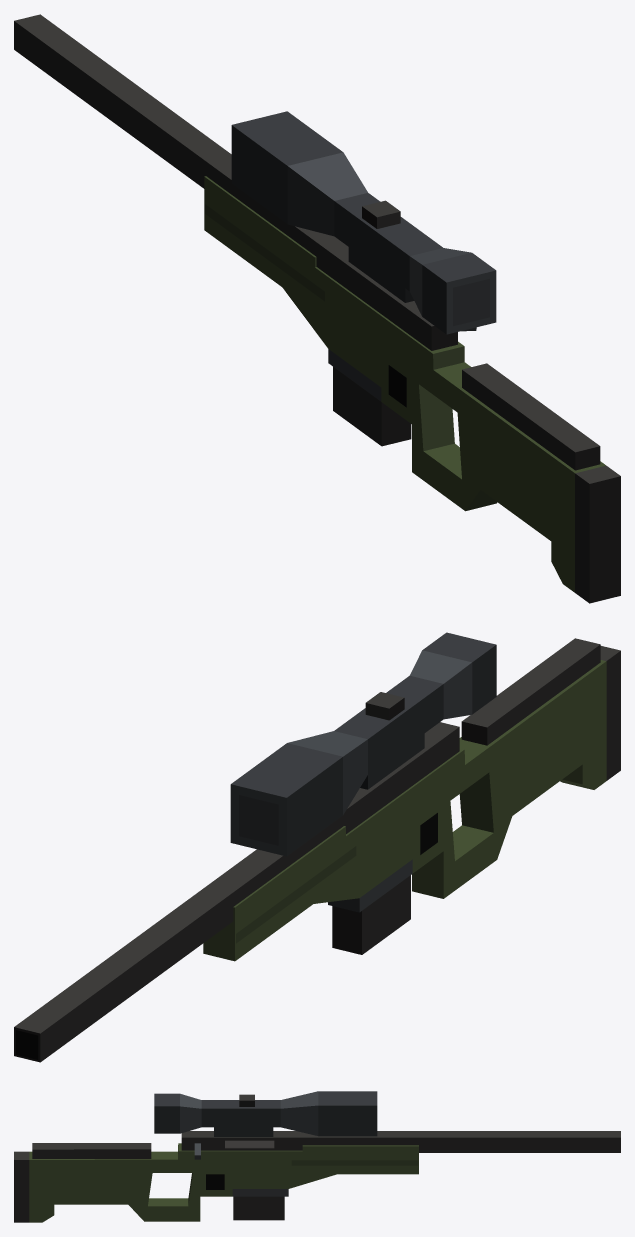
File: Wep_Rifle.fbx
3 renders of one model, top to bottom at view 1: azimuth 30°, elevation 25°; view 2: azimuth 150°, elevation 25°; view 3: azimuth 270°, elevation 25°, orthographic. The views are drawn at different scales.
Visible parts, largest first — view 1: Wep_Sniper; view 2: Wep_Sniper; view 3: Wep_Sniper.
Part boxes in pixels (x1=…): Wep_Sniper: x1=14, y1=14, x2=620, y2=603; Wep_Sniper: x1=14, y1=632, x2=620, y2=1062; Wep_Sniper: x1=14, y1=1091, x2=620, y2=1222.
Bounding box in the file's own units: 36.57 × 110 × 503.
